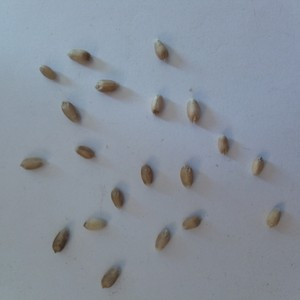trigo: (99, 262, 124, 291), (185, 96, 207, 128), (50, 224, 71, 255), (264, 203, 285, 234), (179, 159, 198, 193), (65, 46, 94, 67), (149, 38, 172, 64), (60, 98, 82, 124), (90, 76, 120, 95), (151, 224, 171, 252), (137, 162, 158, 188), (106, 185, 126, 210), (82, 215, 108, 234), (19, 155, 46, 173), (216, 129, 233, 157), (181, 212, 202, 233), (36, 64, 59, 82), (250, 155, 267, 178), (150, 95, 165, 118), (74, 145, 97, 160)
